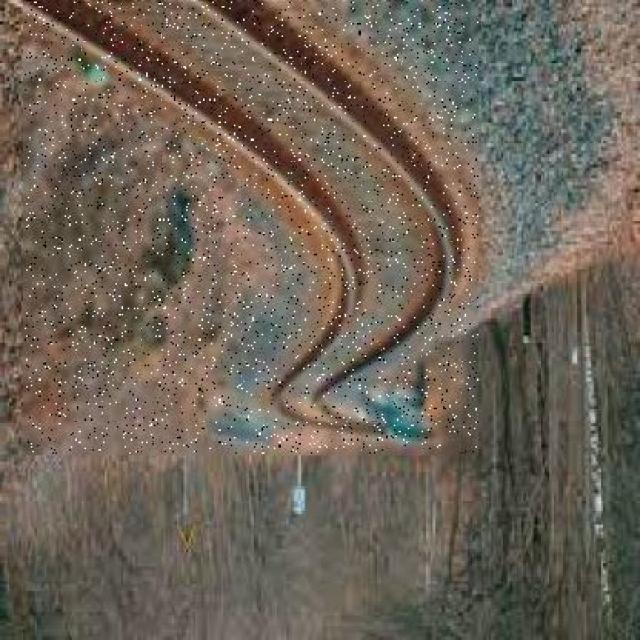rail: (26, 3, 479, 455)
